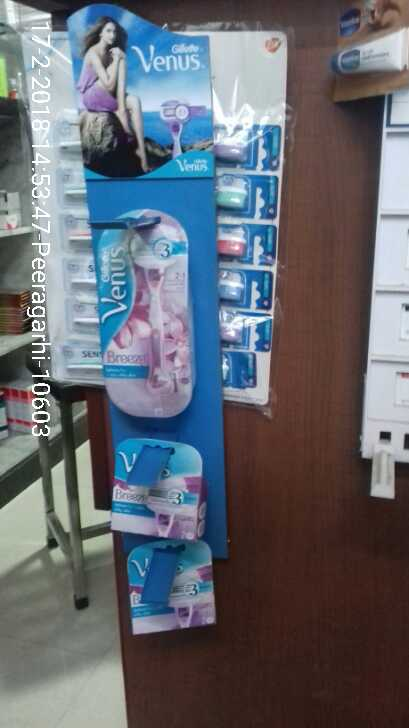venus: (94, 206, 202, 420), (99, 433, 208, 541), (120, 534, 226, 641)
